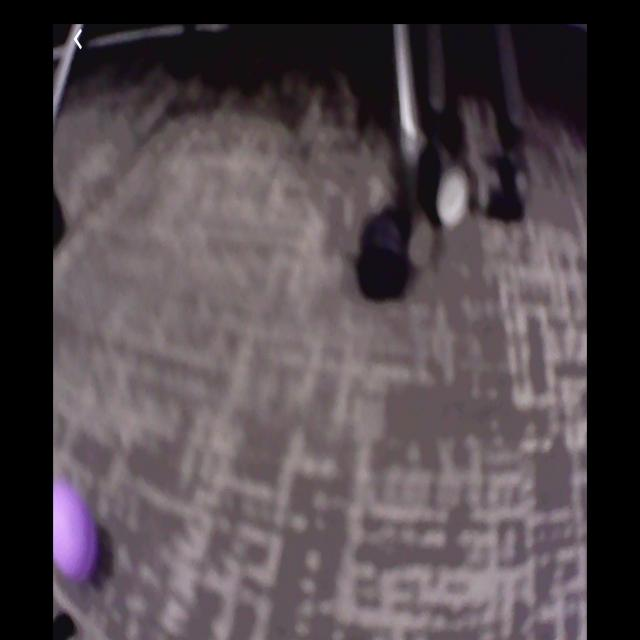ball: (56, 481, 101, 588)
